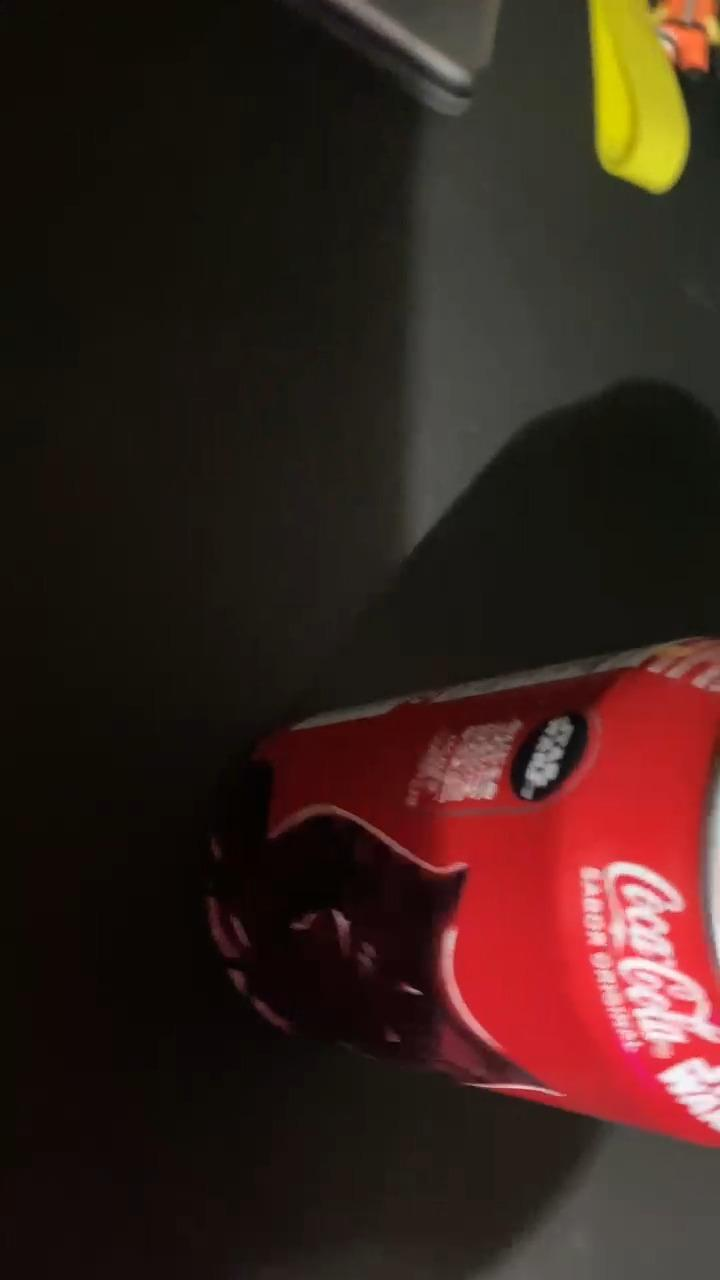coke: (207, 629, 718, 1161)
